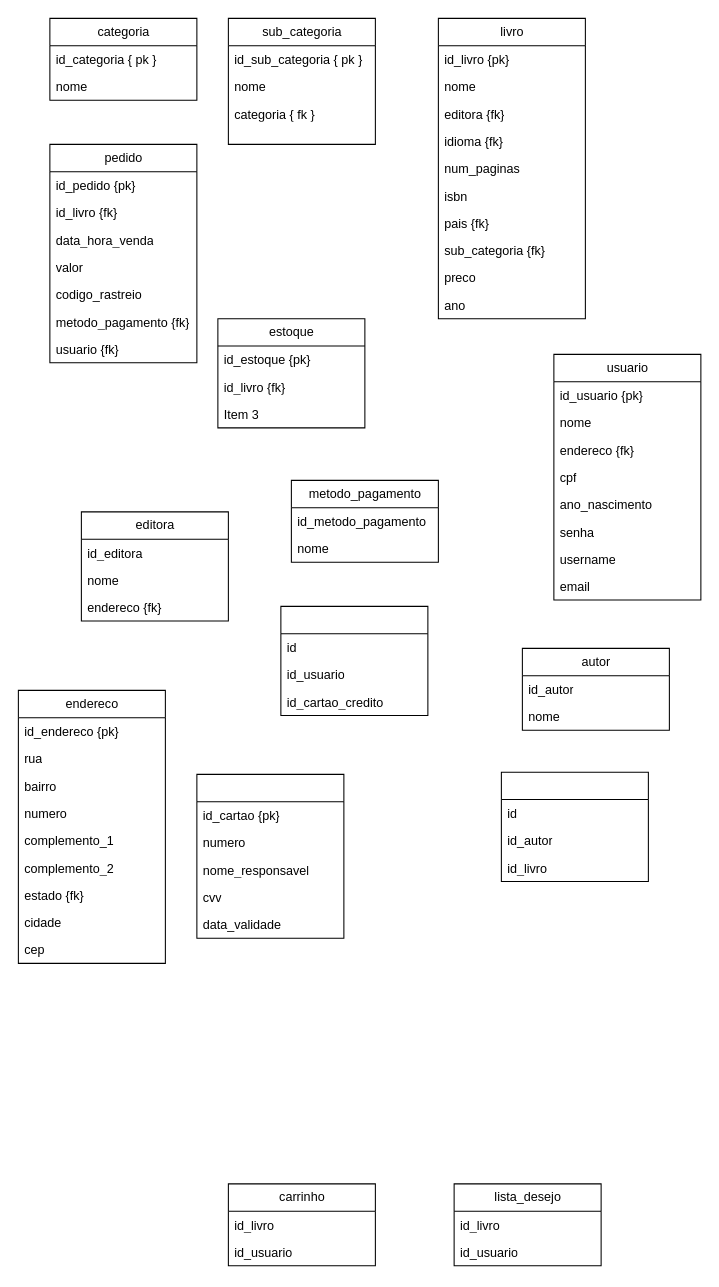
The diagram is 719 pixels wide and 1287 high, and some of its shapes have lost their labels. The box of each missing label's shape, as (x1, y1, x2, y2) in pixels:
autor_livro: (500, 771, 648, 881)
cartao_credito: (196, 773, 344, 938)
cartao_usuario: (280, 605, 428, 716)
